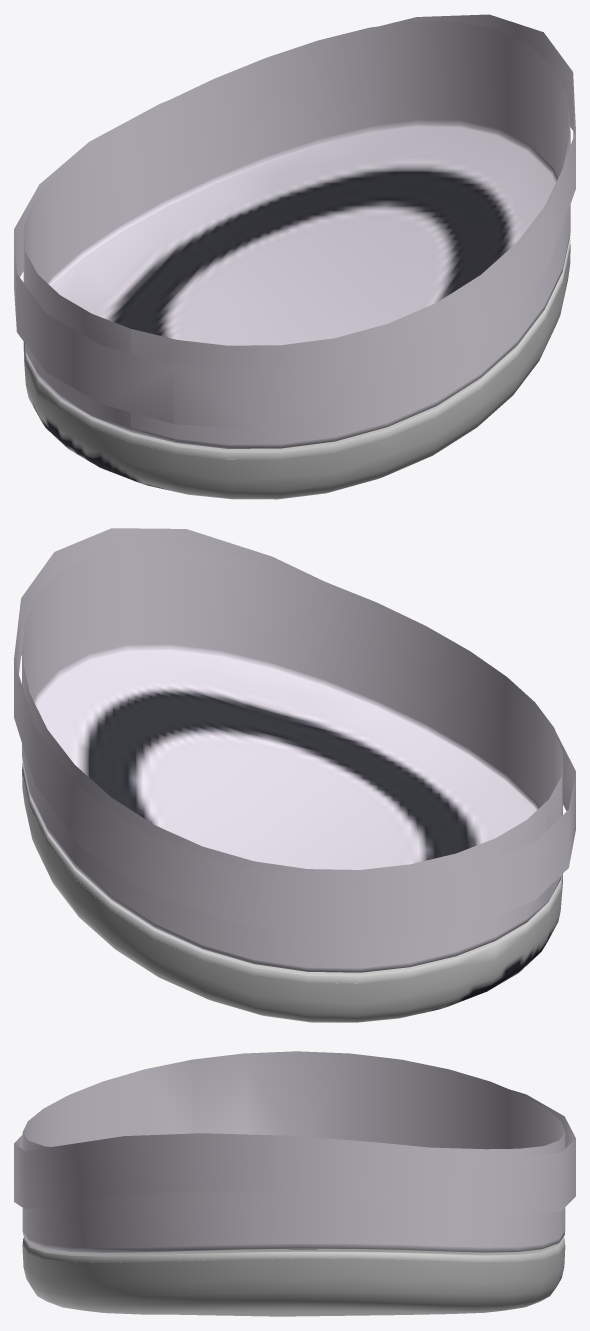
Rendered from btn_circle.obj.
3 renders of one model, top to bottom at view 1: azimuth 30°, elevation 25°; view 2: azimuth 150°, elevation 25°; view 3: azimuth 270°, elevation 25°, orthographic.
Visible parts, largest first — view 1: btn_circle; view 2: btn_circle; view 3: btn_circle.
Part boxes in pixels (box(x1,y1,x2,y2)): btn_circle: box(14, 14, 575, 499); btn_circle: box(14, 528, 575, 1022); btn_circle: box(14, 1051, 575, 1316).
Size of the model in its own units: 0.1293 by 0.0784 by 0.1291.
